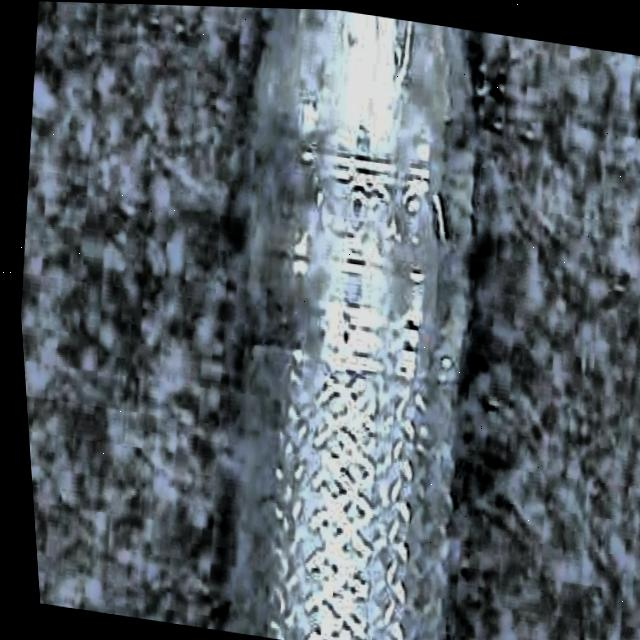plastic: (173, 4, 533, 640)
